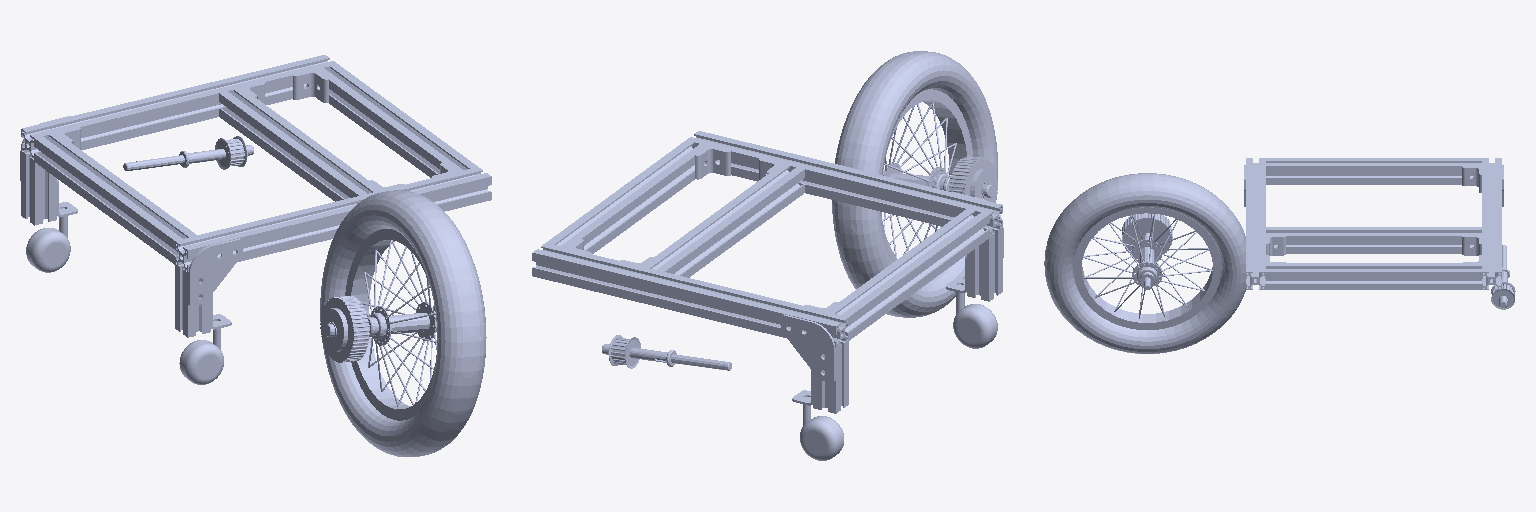
robot.urdf — ROS_Module_Assembly_v2:
<?xml version="1.0" encoding="utf-8"?>
<!-- This URDF was automatically created by SolidWorks to URDF Exporter! Originally created by [author] ([email redacted]) 
     Commit Version: 1.6.0-4-g7f85cfe  Build Version: 1.6.7995.38578
     For more information, please see http://wiki.ros.org/sw_urdf_exporter -->
<robot
  name="ROS_Module_Assembly_v2">
  <link
    name="base_link">
    <inertial>
      <origin
        xyz="0.128858942998281 -0.0390948539276146 -0.0317243201587632"
        rpy="0 0 0" />
      <mass
        value="2.19605365865044" />
      <inertia
        ixx="0.0035477515326301"
        ixy="1.16508212276981E-06"
        ixz="3.38792695900141E-05"
        iyy="0.00903296845626077"
        iyz="1.30911858394431E-07"
        izz="0.00636969397959149" />
    </inertial>
    <visual>
      <origin
        xyz="0 0 0"
        rpy="0 0 0" />
      <geometry>
        <mesh
          filename="package://ROS_Module_Assembly_v2/meshes/base_link.STL" />
      </geometry>
      <material
        name="">
        <color
          rgba="0.792156862745098 0.819607843137255 0.933333333333333 1" />
      </material>
    </visual>
    <collision>
      <origin
        xyz="0 0 0"
        rpy="0 0 0" />
      <geometry>
        <mesh
          filename="package://ROS_Module_Assembly_v2/meshes/base_link.STL" />
      </geometry>
    </collision>
  </link>
  <link
    name="Input_rotation">
    <inertial>
      <origin
        xyz="-4.27720584713631E-05 0.0320085266107966 7.43535191642941E-05"
        rpy="0 0 0" />
      <mass
        value="0.0250911416959944" />
      <inertia
        ixx="7.17846660403851E-06"
        ixy="6.77842383614617E-10"
        ixz="-1.16921418139205E-08"
        iyy="2.34243127132187E-06"
        iyz="-1.1777267416574E-09"
        izz="7.1920657280501E-06" />
    </inertial>
    <visual>
      <origin
        xyz="0 0 0"
        rpy="0 0 0" />
      <geometry>
        <mesh
          filename="package://ROS_Module_Assembly_v2/meshes/Input_rotation.STL" />
      </geometry>
      <material
        name="">
        <color
          rgba="0.792156862745098 0.819607843137255 0.933333333333333 1" />
      </material>
    </visual>
    <collision>
      <origin
        xyz="0 0 0"
        rpy="0 0 0" />
      <geometry>
        <mesh
          filename="package://ROS_Module_Assembly_v2/meshes/Input_rotation.STL" />
      </geometry>
    </collision>
  </link>
  <joint
    name="base_to_input_rot_joint"
    type="continuous">
    <origin
      xyz="0.18426521062757 -0.00899999999999995 0.00425000000000014"
      rpy="0 0 0" />
    <parent
      link="base_link" />
    <child
      link="Input_rotation" />
    <axis
      xyz="0 -1 0" />
  </joint>
  <link
    name="fork">
    <inertial>
      <origin
        xyz="-0.0196620951842165 -0.17644222559235 0.00276553611461561"
        rpy="0 0 0" />
      <mass
        value="2.193938827426" />
      <inertia
        ixx="0.0114394906504482"
        ixy="-2.96429956782684E-05"
        ixz="-0.000346333210479324"
        iyy="0.00390974136125943"
        iyz="1.04770303784987E-08"
        izz="0.00911217613541888" />
    </inertial>
    <visual>
      <origin
        xyz="0 0 0"
        rpy="0 0 0" />
      <geometry>
        <mesh
          filename="package://ROS_Module_Assembly_v2/meshes/fork.STL" />
      </geometry>
      <material
        name="">
        <color
          rgba="0.792156862745098 0.819607843137255 0.933333333333333 1" />
      </material>
    </visual>
    <collision>
      <origin
        xyz="0 0 0"
        rpy="0 0 0" />
      <geometry>
        <mesh
          filename="package://ROS_Module_Assembly_v2/meshes/fork.STL" />
      </geometry>
    </collision>
  </link>
  <joint
    name="input_shat_to_fork_joint"
    type="continuous">
    <origin
      xyz="-0.18426521062757 0.00899999999999995 -0.00425000000000014"
      rpy="0 0 0" />
    <parent
      link="Input_rotation" />
    <child
      link="fork" />
    <axis
      xyz="0.989559049337816 0 -0.144128025982593" />
  </joint>
  <link
    name="input_translation">
    <inertial>
      <origin
        xyz="-1.86501153539576E-05 0.0471529677388539 -6.65458510142602E-05"
        rpy="0 0 0" />
      <mass
        value="0.0322551764640257" />
      <inertia
        ixx="1.59512613902741E-05"
        ixy="1.85134210099302E-09"
        ixz="3.57500867077368E-09"
        iyy="2.73036636453636E-06"
        iyz="6.6055090731218E-09"
        izz="1.59630154913409E-05" />
    </inertial>
    <visual>
      <origin
        xyz="0 0 0"
        rpy="0 0 0" />
      <geometry>
        <mesh
          filename="package://ROS_Module_Assembly_v2/meshes/input_translation.STL" />
      </geometry>
      <material
        name="">
        <color
          rgba="0.792156862745098 0.819607843137255 0.933333333333333 1" />
      </material>
    </visual>
    <collision>
      <origin
        xyz="0 0 0"
        rpy="0 0 0" />
      <geometry>
        <mesh
          filename="package://ROS_Module_Assembly_v2/meshes/input_translation.STL" />
      </geometry>
    </collision>
  </link>
  <joint
    name="input_translation_to_base"
    type="continuous">
    <origin
      xyz="0.168973339641516 -0.00800000000000012 -0.0761500000000042"
      rpy="0 -0.283435833200865 0" />
    <parent
      link="base_link" />
    <child
      link="input_translation" />
    <axis
      xyz="0 1 0" />
  </joint>
  <link
    name="translation_vertical_shaft_bevel">
    <inertial>
      <origin
        xyz="-0.0478109931432433 -0.144082628803617 0.00694942057457815"
        rpy="0 0 0" />
      <mass
        value="0.0292722394873776" />
      <inertia
        ixx="2.68317140439038E-06"
        ixy="-3.22458638410767E-08"
        ixz="5.18608637436208E-06"
        iyy="3.83412116156024E-05"
        iyz="6.96572109973438E-09"
        izz="3.75738479283958E-05" />
    </inertial>
    <visual>
      <origin
        xyz="0 0 0"
        rpy="0 0 0" />
      <geometry>
        <mesh
          filename="package://ROS_Module_Assembly_v2/meshes/translation_vertical_shaft_bevel.STL" />
      </geometry>
      <material
        name="">
        <color
          rgba="0.792156862745098 0.819607843137255 0.933333333333333 1" />
      </material>
    </visual>
    <collision>
      <origin
        xyz="0 0 0"
        rpy="0 0 0" />
      <geometry>
        <mesh
          filename="package://ROS_Module_Assembly_v2/meshes/translation_vertical_shaft_bevel.STL" />
      </geometry>
    </collision>
  </link>
  <joint
    name="input_translation_to_translation_vertical_shaft_bevel_joint"
    type="continuous">
    <origin
      xyz="-0.140935539367766 0.00800000000000012 0.12036604900355"
      rpy="0 0.283435833200865 0" />
    <parent
      link="input_translation" />
    <child
      link="translation_vertical_shaft_bevel" />
    <axis
      xyz="0.989559049337816 0 -0.144128025982593" />
  </joint>
  <link
    name="wheel">
    <inertial>
      <origin
        xyz="0.00443358075363185 -2.26112508348725E-05 -0.000449461330409129"
        rpy="0 0 0" />
      <mass
        value="2.07570429649408" />
      <inertia
        ixx="0.0321421833857581"
        ixy="-6.4889661115115E-05"
        ixz="-0.00156407780031386"
        iyy="0.0166152570830014"
        iyz="6.53409992084557E-06"
        izz="0.0167725791083667" />
    </inertial>
    <visual>
      <origin
        xyz="0 0 0"
        rpy="0 0 0" />
      <geometry>
        <mesh
          filename="package://ROS_Module_Assembly_v2/meshes/wheel.STL" />
      </geometry>
      <material
        name="">
        <color
          rgba="0.792156862745098 0.819607843137255 0.933333333333333 1" />
      </material>
    </visual>
    <collision>
      <origin
        xyz="0 0 0"
        rpy="0 0 0" />
      <geometry>
        <mesh
          filename="package://ROS_Module_Assembly_v2/meshes/wheel.STL" />
      </geometry>
    </collision>
  </link>
  <joint
    name="horiz_bevel_to_wheel_joint"
    type="continuous">
    <origin
      xyz="0 -0.335999999999999 0"
      rpy="-3.10013015418688 -0.044158958814617 3.14159265358979" />
    <parent
      link="translation_vertical_shaft_bevel" />
    <child
      link="wheel" />
    <axis
      xyz="-0.994956854563343 0.00415765583180053 0.100217620483638" />
  </joint>
</robot>

--- What the picture shows (computed from the rendered views, not written in the file) ---
The picture shows the robot from 3 angles, left to right: view 1: azimuth 30°, elevation 25°; view 2: azimuth 150°, elevation 25°; view 3: azimuth 270°, elevation 25°; orthographic projection.
Robot: ROS_Module_Assembly_v2 — 6 links, 5 joints (5 continuous); root link base_link; default pose: every joint at zero.
Links seen in each view (by area): view 1: base_link, wheel, translation_vertical_shaft_bevel; view 2: base_link, wheel, translation_vertical_shaft_bevel; view 3: wheel, base_link, translation_vertical_shaft_bevel.
Boxes of the visible links, x1,y1,x2,y2 form: base_link: [20, 55, 491, 384]; wheel: [320, 190, 486, 456]; translation_vertical_shaft_bevel: [123, 136, 253, 170]; base_link: [532, 131, 1003, 460]; wheel: [832, 51, 997, 317]; translation_vertical_shaft_bevel: [602, 335, 731, 370]; wheel: [1044, 173, 1245, 353]; base_link: [1244, 158, 1503, 289]; translation_vertical_shaft_bevel: [1491, 245, 1515, 309].
Bounding box of the posed robot: 0.4 × 0.698 × 0.303 m (x, y, z).
3 mesh visuals loaded from 6 distinct referenced files (3 binary STL); not drawn: 3 (reference not matched to a file when rendering).